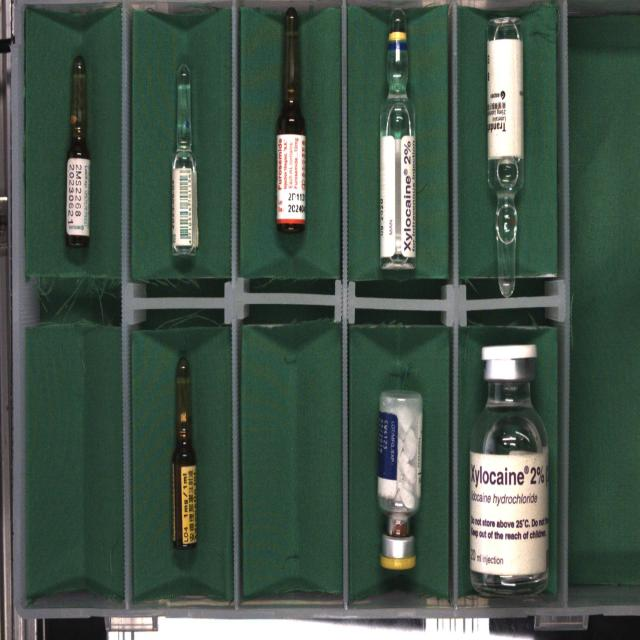Vials: (469, 343, 549, 596), (378, 390, 422, 570)
